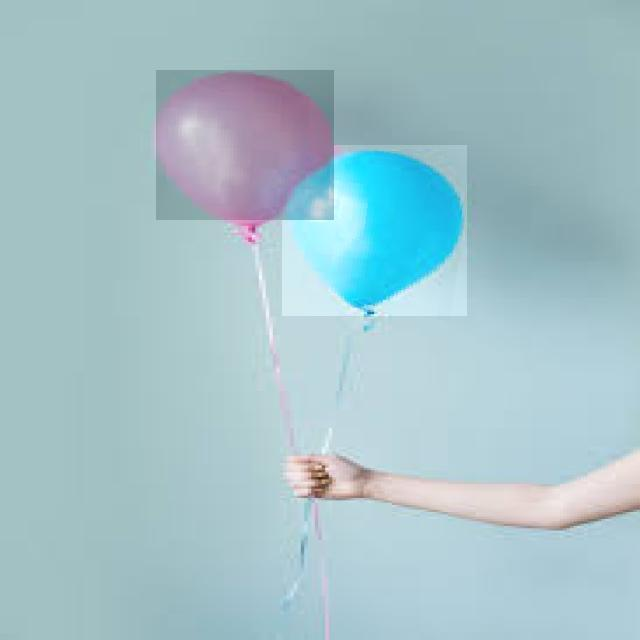balloon: (282, 145, 467, 316), (156, 70, 334, 220)
